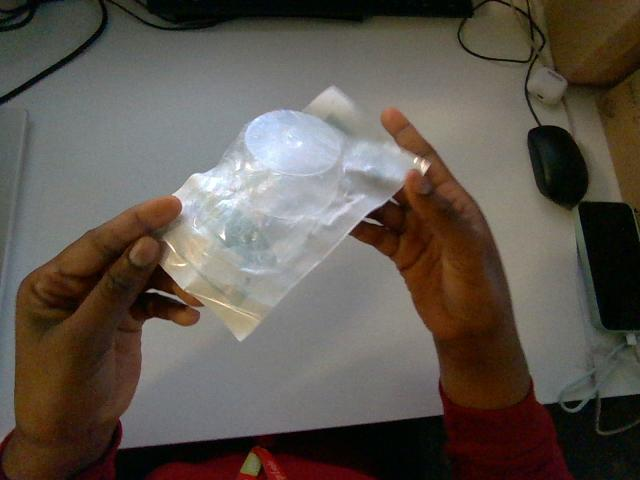gallipot: (161, 88, 427, 339)
